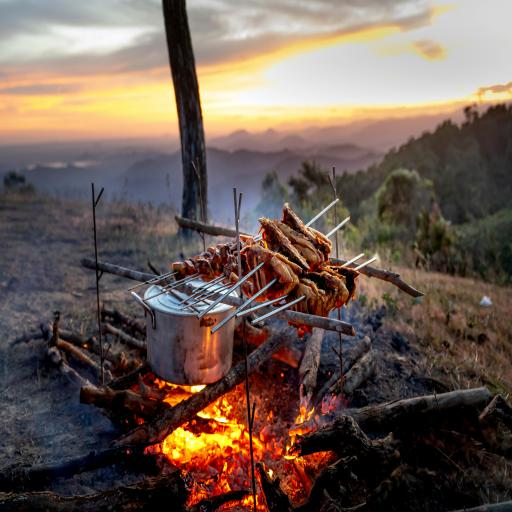fire: (116, 368, 394, 512)
